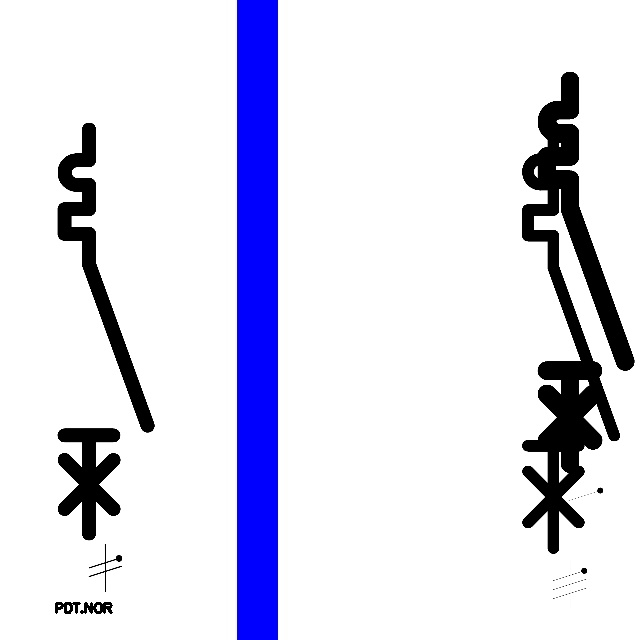interruptor_termomagnetico: (517, 116, 625, 559), (54, 119, 158, 543), (537, 71, 635, 474)
